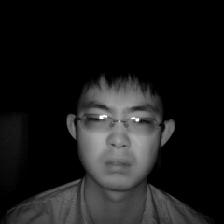normal: (61, 51, 187, 194)
